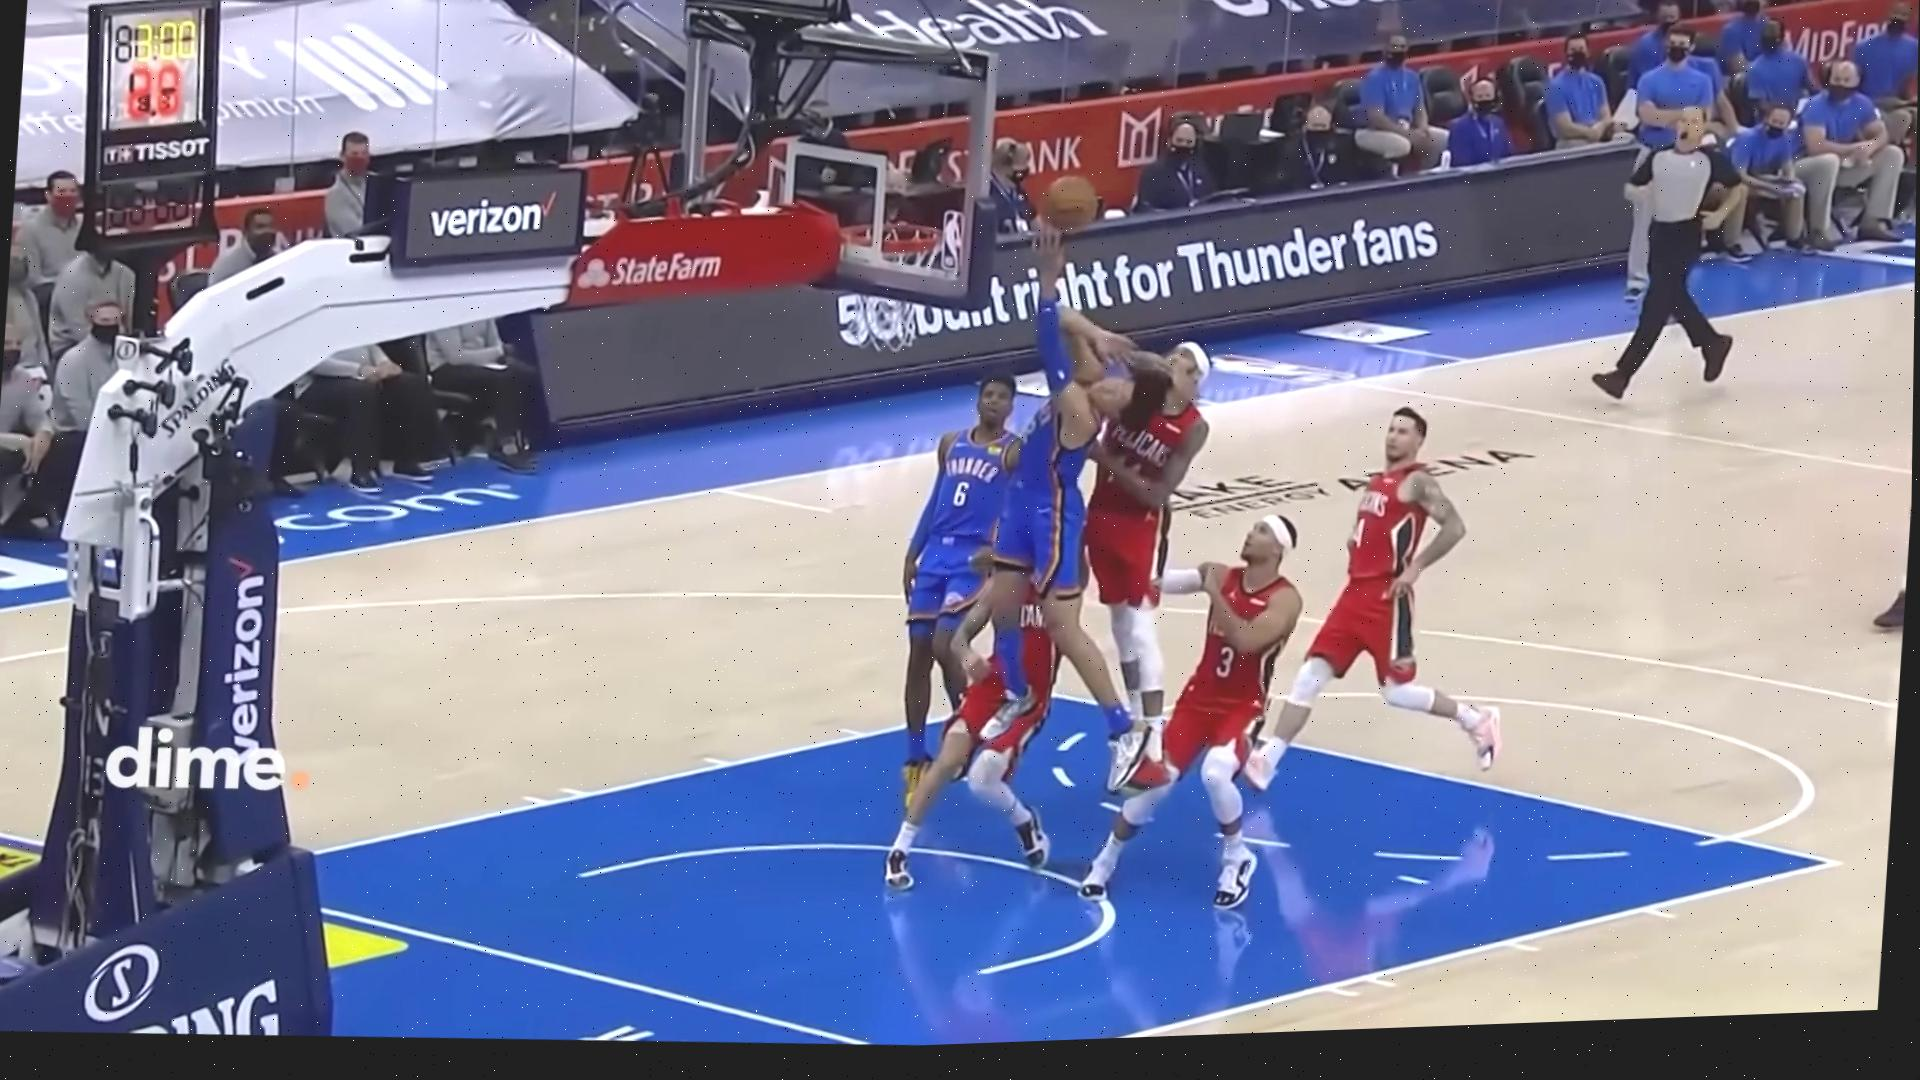foul: (955, 193, 1218, 793)
